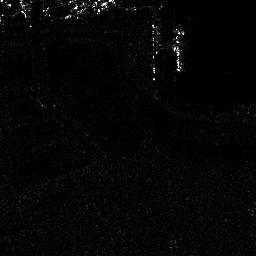ship: (149, 22, 161, 83), (172, 25, 184, 72)
